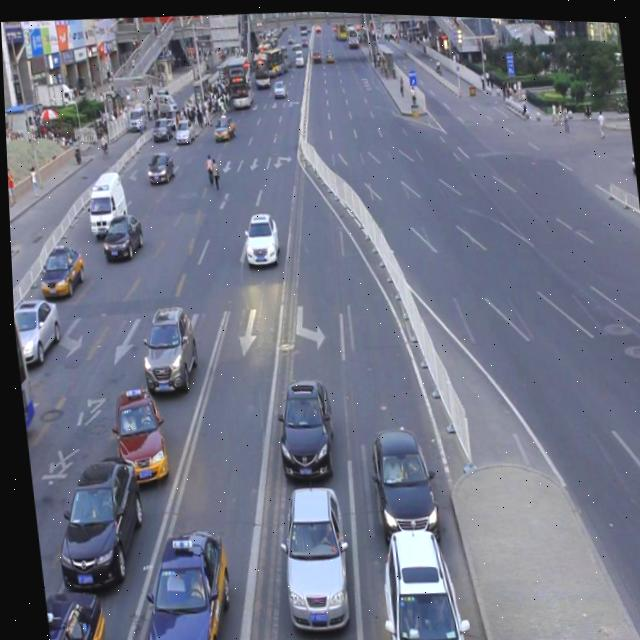car: (43, 448, 144, 592), (124, 520, 231, 640), (269, 478, 349, 632), (370, 518, 462, 640), (362, 419, 437, 543), (267, 371, 334, 479), (132, 299, 198, 394), (105, 382, 166, 484), (10, 293, 60, 369), (38, 584, 101, 640), (35, 240, 85, 301), (96, 211, 143, 261), (239, 208, 279, 265), (144, 148, 174, 185)
truck: (82, 169, 129, 236)
